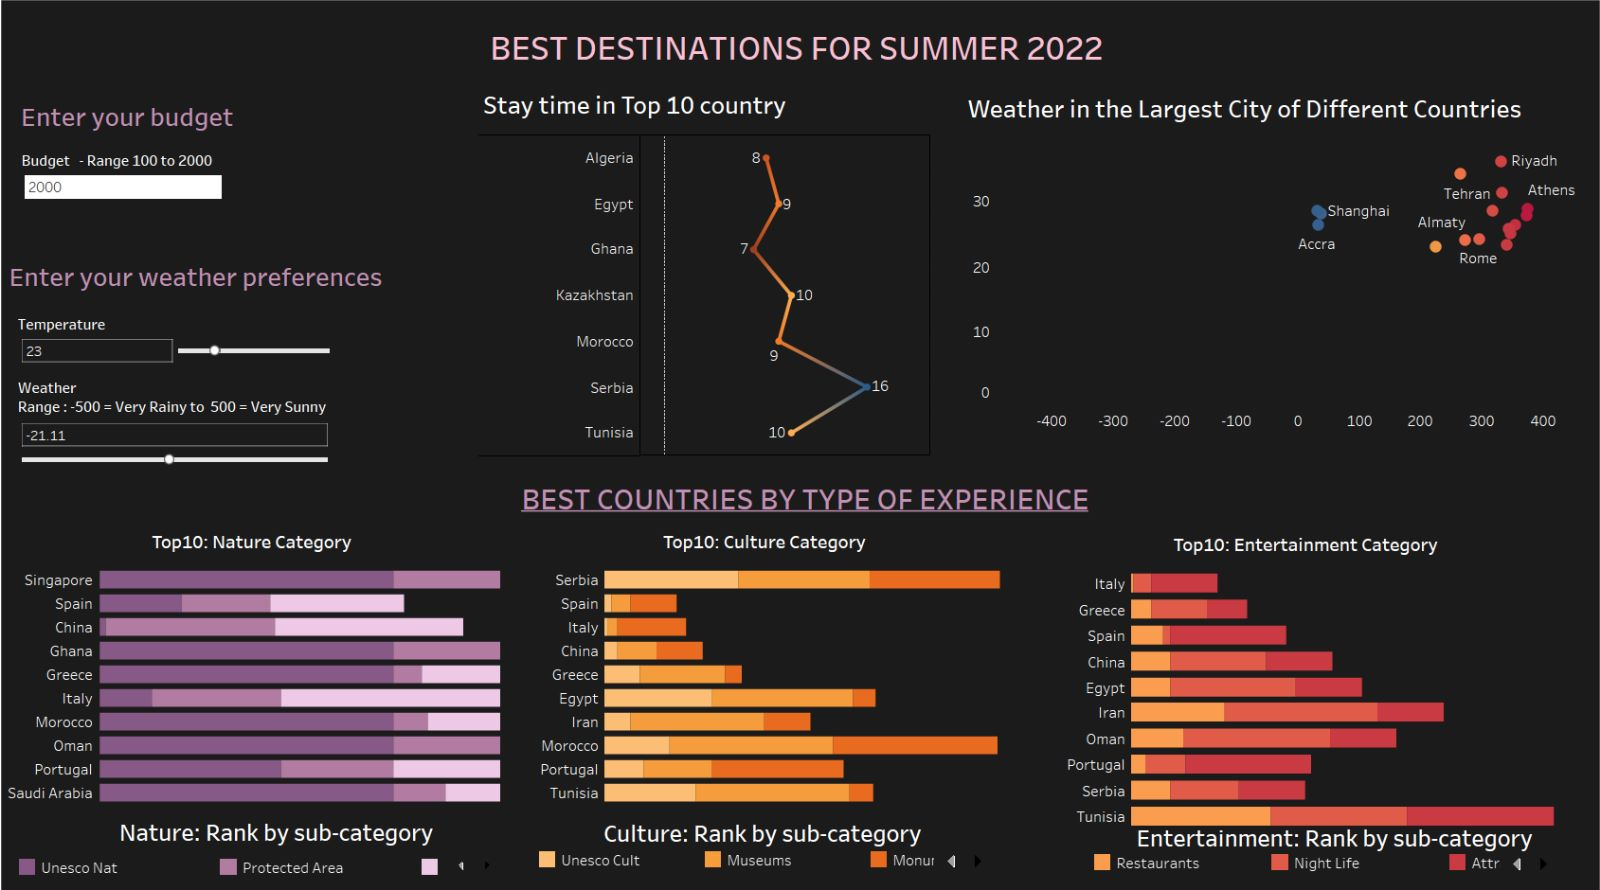

The page's visual inventory and layout, read from the dashboard file:
{"tool":"tableau","page":{"name":"Best destination D1","canvas":[1366,768],"ordinal":0},"visuals":[{"type":"text","box":[418,20,537,55]},{"type":"worksheet","title":"staytime","mark":"Line","rows":["Country"],"cols":["PossibleStay"],"box":[411,78,382,315]},{"type":"worksheet","title":"weather","mark":"Circle","rows":["Temp(°C)"],"cols":["Weather (VeryRainy=-500  VerySunny=500)"],"box":[820,81,521,301]},{"type":"text","box":[22,89,224,33]},{"type":"parameter","param":"[Parameters].[Parameter 1]","box":[25,135,172,67]},{"type":"text","box":[12,214,381,53]},{"type":"parameter","param":"[Parameters].[Parameter 2]","box":[22,273,266,44]},{"type":"parameter","param":"[Parameters].[Parameter 3]","box":[22,327,265,89]},{"type":"text","box":[13,405,1348,46]},{"type":"worksheet","title":"nature C","mark":"Automatic","rows":["Country"],"box":[10,451,456,256]},{"type":"worksheet","title":"culture C","mark":"Automatic","rows":["Country"],"box":[437,451,443,256]},{"type":"worksheet","title":"Entertainment C","mark":"Automatic","rows":["Country"],"box":[882,453,455,255]},{"type":"text","box":[105,697,277,27]},{"type":"text","box":[514,698,287,26]},{"type":"text","box":[963.6,698.7,356.8,32.8]},{"type":"legend","title":"culture C","param":"[federated.0gkzp2p0oiooba15mwaoe1pz0pvb].[:Measure Names]","box":[459,724,387,23]},{"type":"legend","title":"Entertainment C","param":"[federated.0gkzp2p0oiooba15mwaoe1pz0pvb].[:Measure Names]","box":[928,726,396,23]},{"type":"legend","title":"nature C","param":"[federated.0gkzp2p0oiooba15mwaoe1pz0pvb].[:Measure Names]","box":[20,730,412,17]}]}

Visuals, with their boxes in screenshot pixels (x1, y1, x2, y2), scaled from the page's 1366x768 canvas onto the 1600x890 screenshot:
text: rect(490, 23, 1119, 87)
"staytime" worksheet (Line marks): rect(481, 90, 929, 455)
"weather" worksheet (Circle marks): rect(960, 94, 1571, 443)
text: rect(26, 103, 288, 141)
parameter: rect(29, 156, 231, 234)
text: rect(14, 248, 460, 309)
parameter: rect(26, 316, 337, 367)
parameter: rect(26, 379, 336, 482)
text: rect(15, 469, 1594, 523)
"nature C" worksheet: rect(12, 523, 546, 819)
"culture C" worksheet: rect(512, 523, 1031, 819)
"Entertainment C" worksheet: rect(1033, 525, 1566, 820)
text: rect(123, 808, 447, 839)
text: rect(602, 809, 938, 839)
text: rect(1129, 810, 1547, 848)
"culture C" legend: rect(538, 839, 991, 866)
"Entertainment C" legend: rect(1087, 841, 1551, 868)
"nature C" legend: rect(23, 846, 506, 866)
